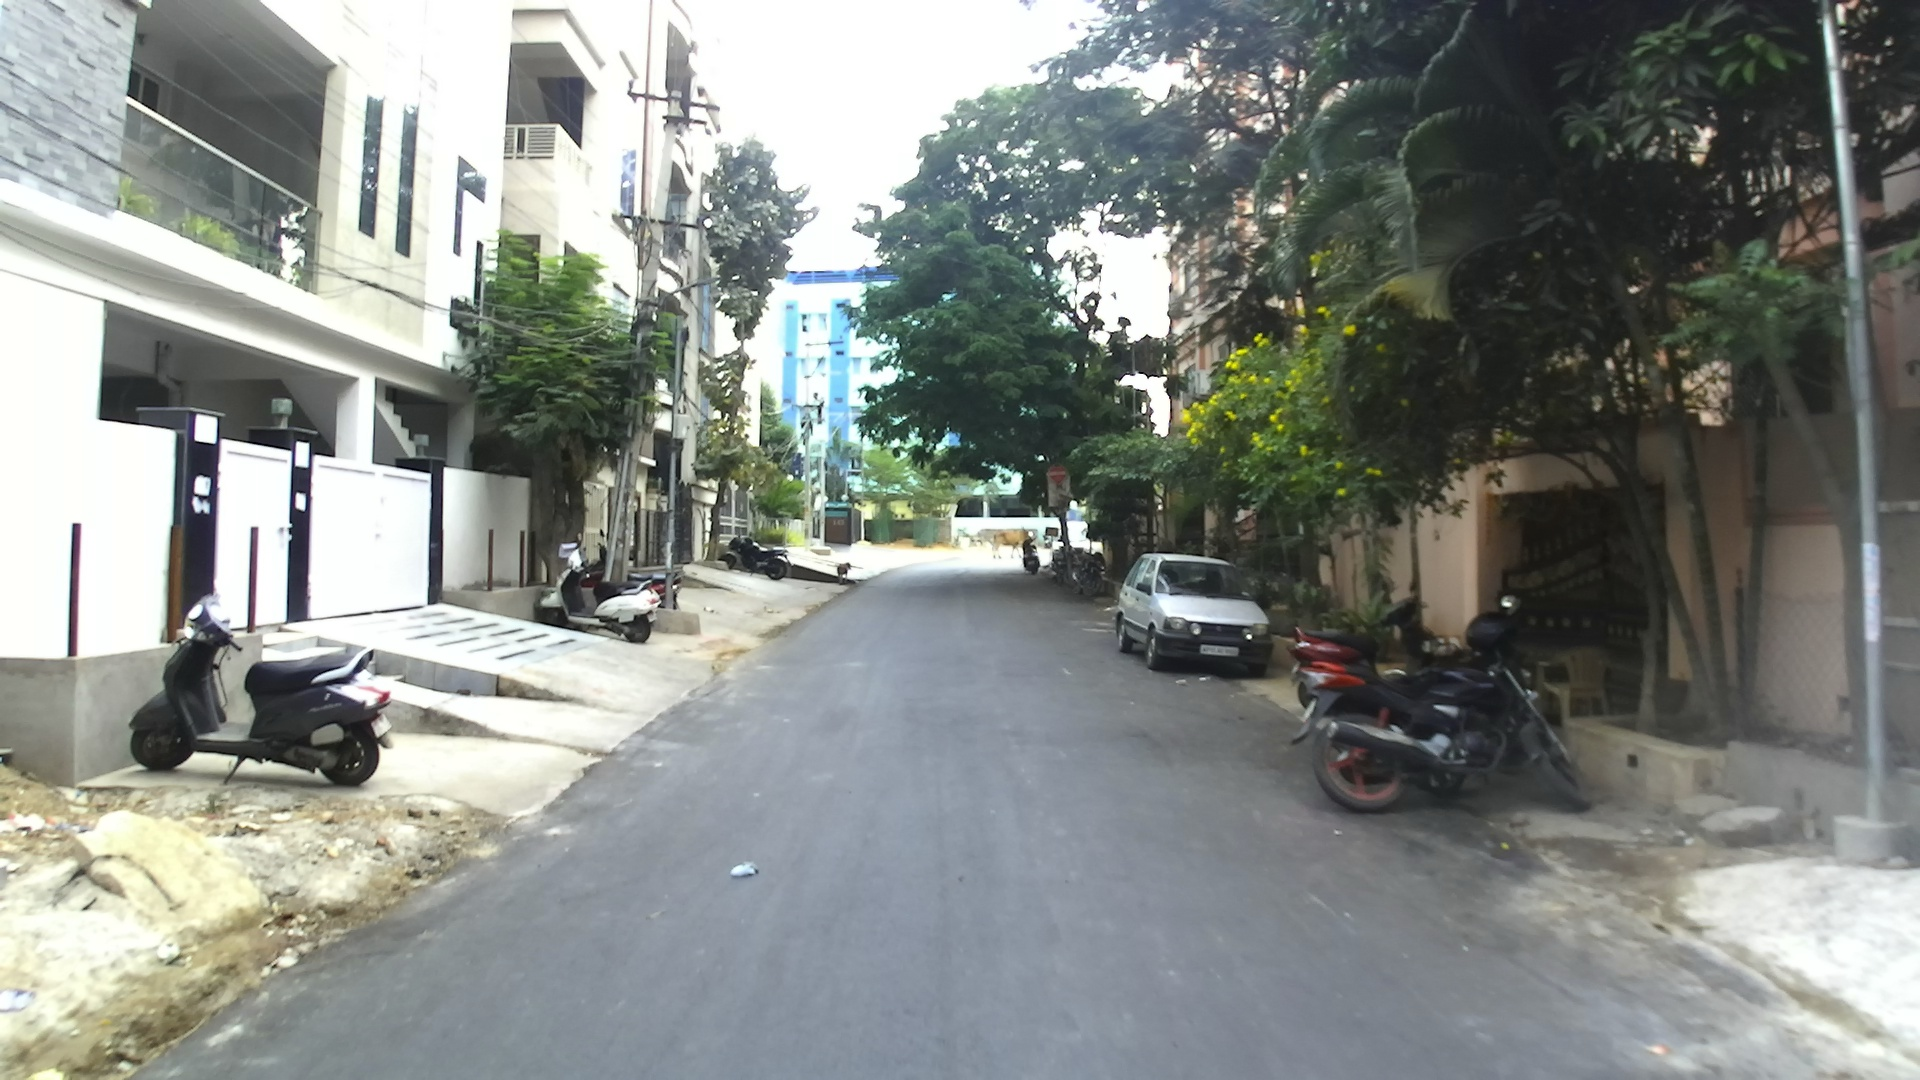vehicle: (1292, 604, 1592, 814), (124, 634, 396, 787), (1114, 553, 1271, 676)
